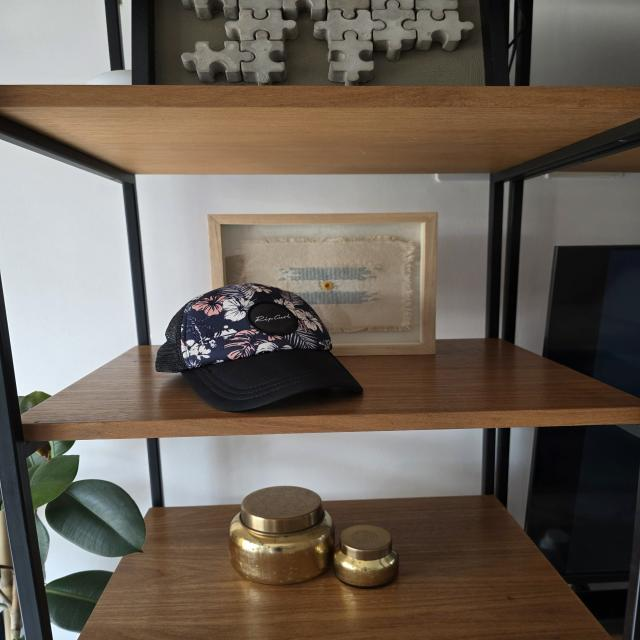Gorra: (156, 286, 374, 410)
